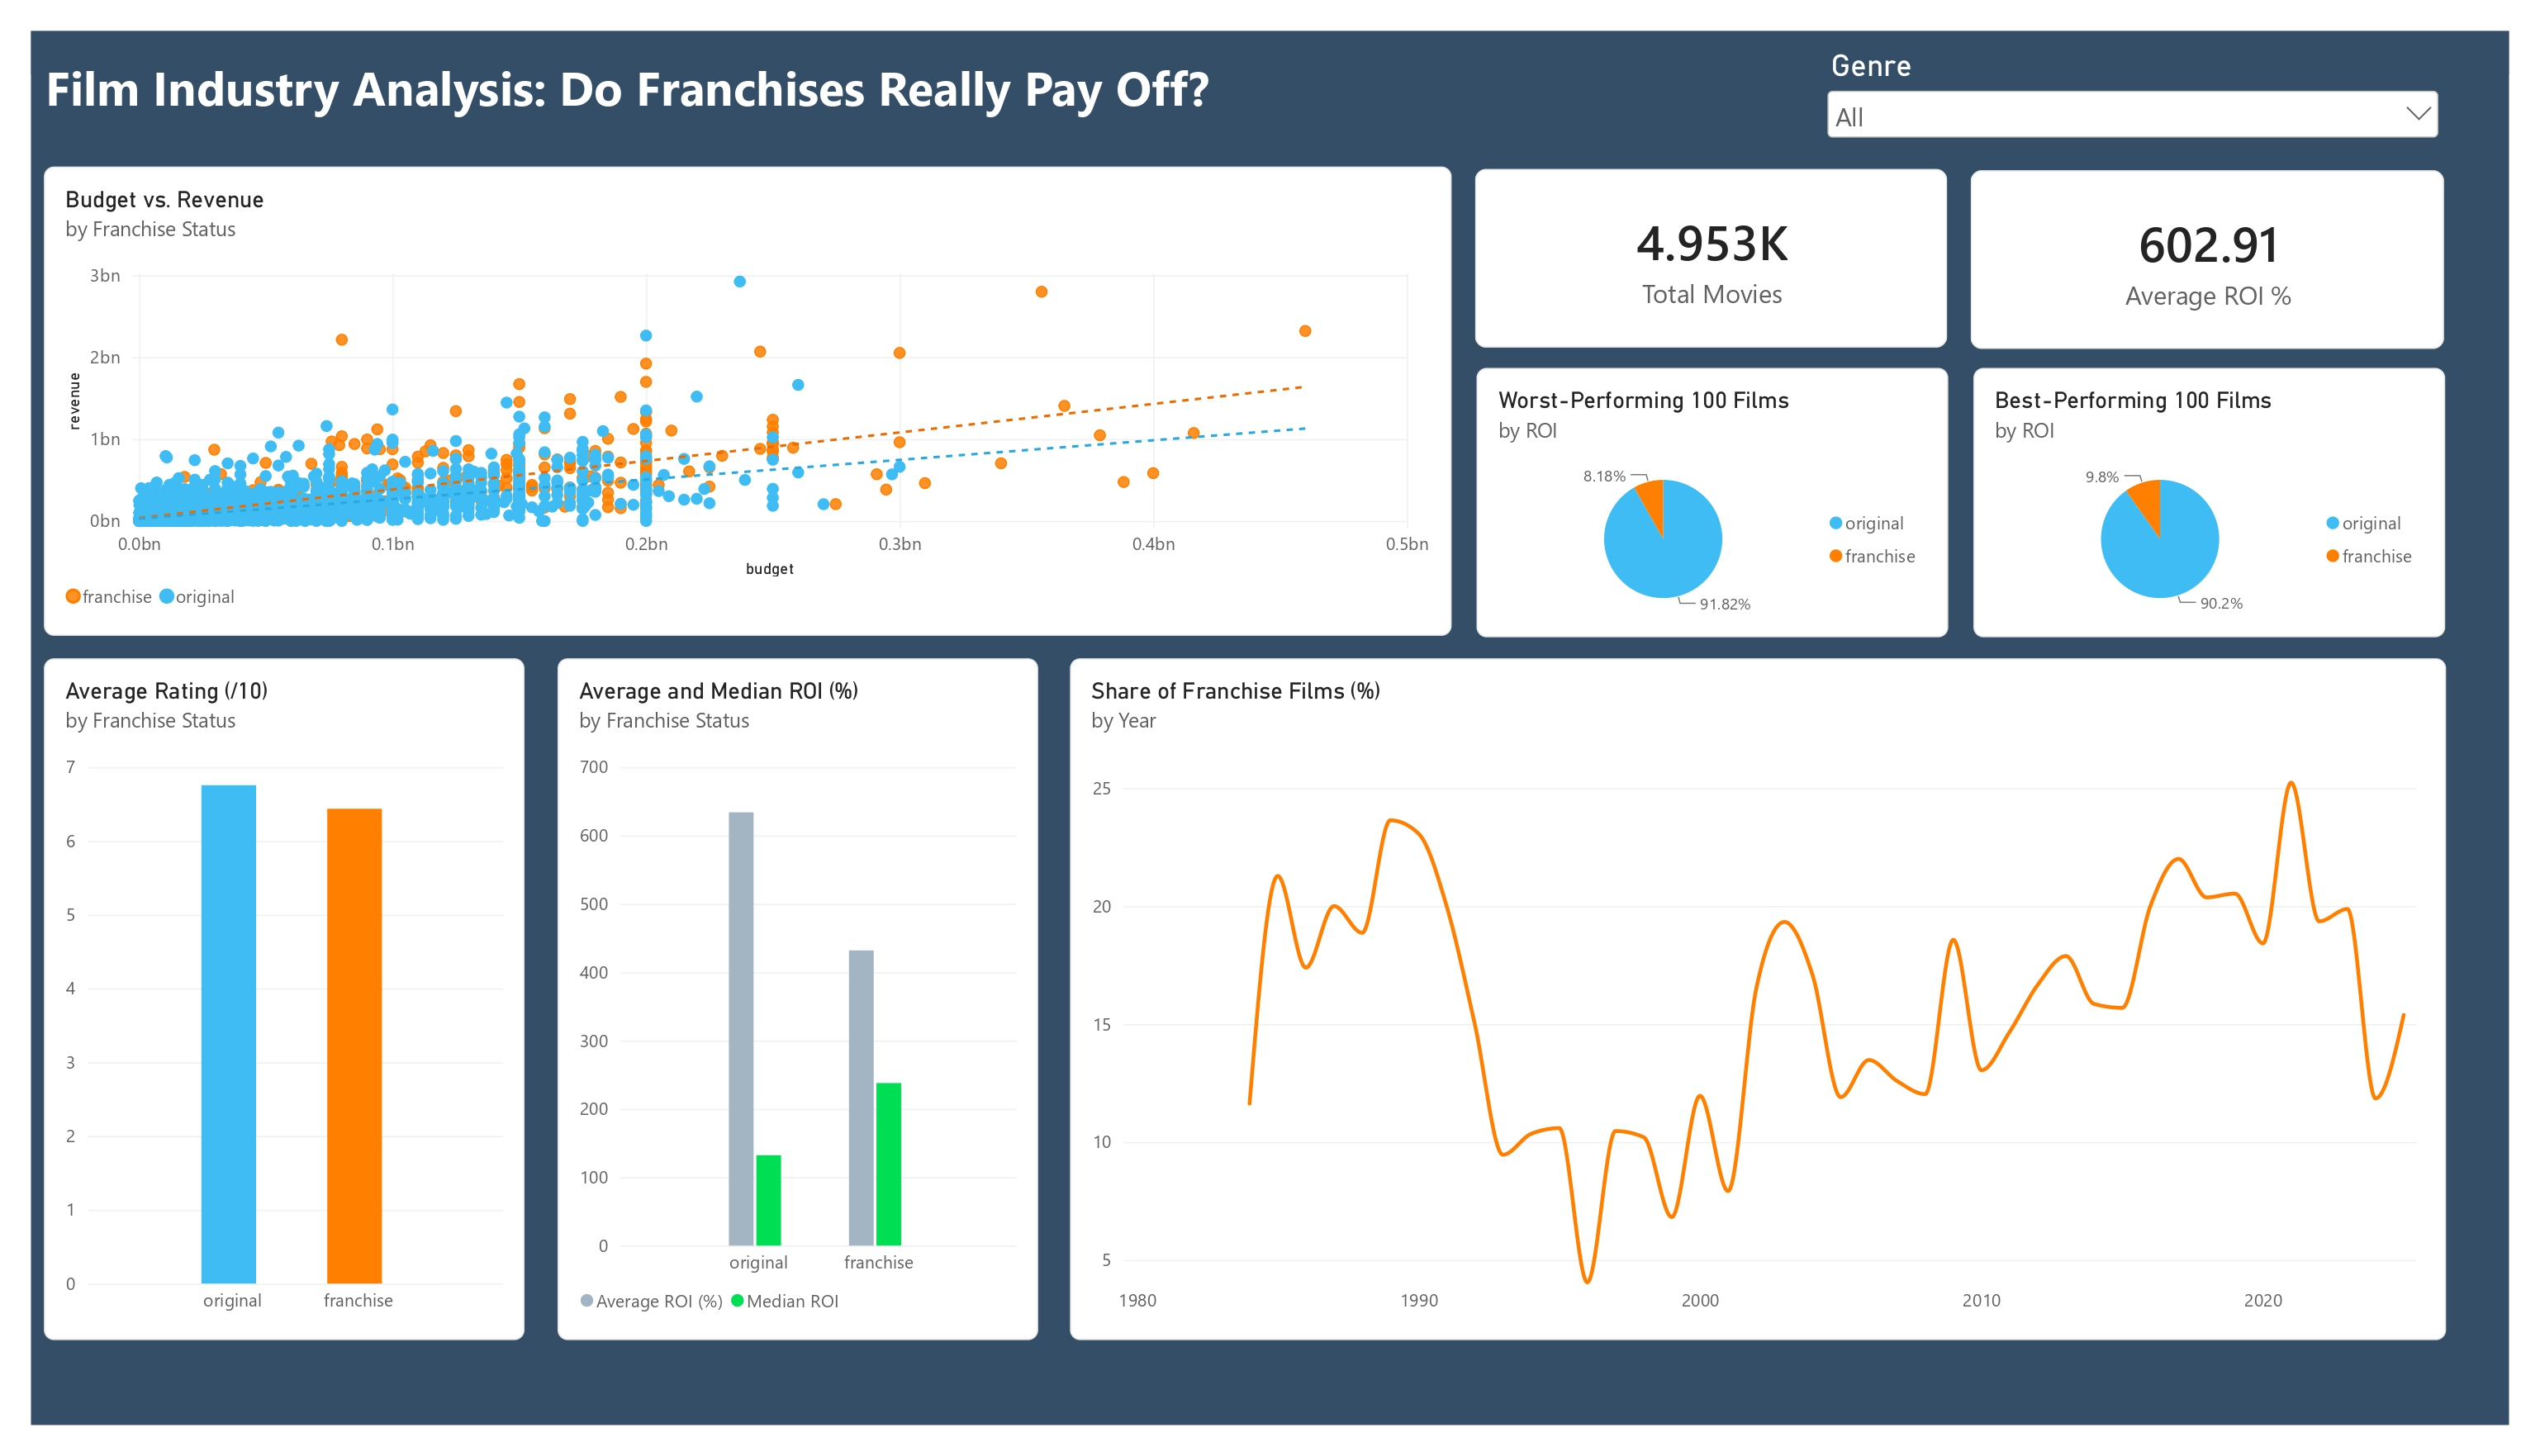

This screenshot's page, from the dashboard's own definition file:
{"tool":"powerbi","page":{"name":"Page 1","canvas":[1920,1080],"ordinal":0},"visuals":[{"type":"cardVisual","title":"Total ","fields":{"Data":["CountNonNull(movies_cleaned.title)"]},"box":[1142,108.9,373.2,141.1],"z":0},{"type":"cardVisual","fields":{"Data":["Avg(movies_cleaned.roi)"]},"box":[1533.9,110.7,375,141.1],"z":1000},{"type":"scatterChart","title":"Budget vs. Revenue","fields":{"Series":["movies_cleaned.franchise_status (groups)"],"X":["movies_cleaned.budget"],"Y":["movies_cleaned.revenue"]},"box":[10.7,107.1,1112.5,371.4],"z":2000},{"type":"clusteredColumnChart","title":"Average and Median ROI (%)","fields":{"Category":["movies_cleaned.franchise_status (groups)"],"Y":["Avg(movies_cleaned.roi)","movies_cleaned.Median ROI"]},"box":[416.1,496.4,380.4,539.3],"z":3000},{"type":"clusteredColumnChart","title":"Average Rating (/10)","fields":{"Category":["movies_cleaned.franchise_status (groups)"],"Y":["Avg(movies_cleaned.vote_average)"]},"box":[10.7,496.4,380.4,539.3],"z":4000},{"type":"lineChart","title":"Share of Franchise Films (%)","fields":{"Category":["movies_cleaned.Year"],"Y":["movies_cleaned.Franchise %"]},"box":[821.4,496.4,1087.5,539.3],"z":5000},{"type":"pieChart","title":"Best-Performing 100 Films","fields":{"Category":["movies_cleaned.franchise_status (groups)"],"Y":["CountNonNull(movies_cleaned.title)"]},"box":[1535.7,266.1,373.2,212.5],"z":6000},{"type":"pieChart","title":"Worst-Performing 100 Films","fields":{"Category":["movies_cleaned.franchise_status (groups)"],"Y":["CountNonNull(movies_cleaned.title)"]},"box":[1142.9,266.1,373.2,212.5],"z":7000},{"type":"slicer","fields":{"Values":["movie_genres.genres"]},"box":[1415.8,13.2,493.4,75],"z":8000},{"type":"textbox","box":[0,19.3,943.3,61.6],"z":9000}]}

Visuals, with their boxes in screenshot pixels (x1, y1, x2, y2):
"Total " cardVisual: Rect(1464, 164, 1933, 341)
cardVisual - Avg(movies_cleaned.roi): Rect(1957, 166, 2428, 344)
"Budget vs. Revenue" scatterChart: Rect(40, 161, 1440, 628)
"Average and Median ROI (%)" clusteredColumnChart: Rect(550, 651, 1028, 1330)
"Average Rating (/10)" clusteredColumnChart: Rect(40, 651, 519, 1330)
"Share of Franchise Films (%)" lineChart: Rect(1060, 651, 2428, 1330)
"Best-Performing 100 Films" pieChart: Rect(1959, 361, 2428, 628)
"Worst-Performing 100 Films" pieChart: Rect(1465, 361, 1935, 628)
slicer - movie_genres.genres: Rect(1808, 43, 2429, 137)
textbox: Rect(26, 50, 1213, 128)
